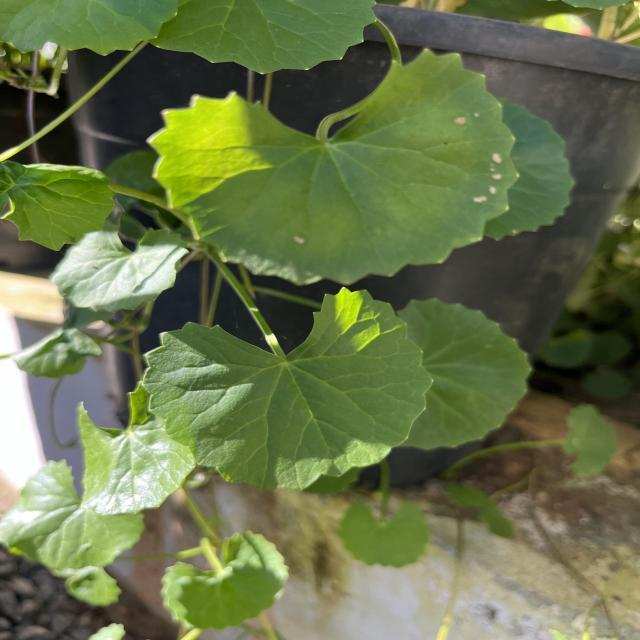Centella asiatica: (140, 282, 438, 495)
